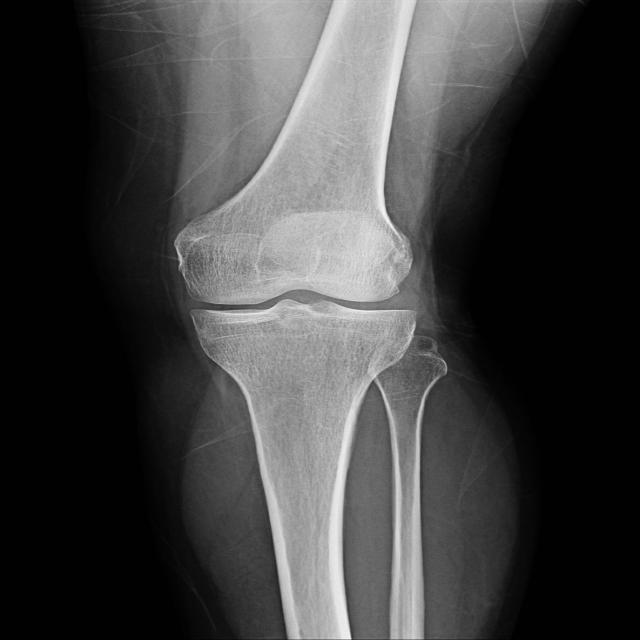normal: (170, 204, 428, 365)
